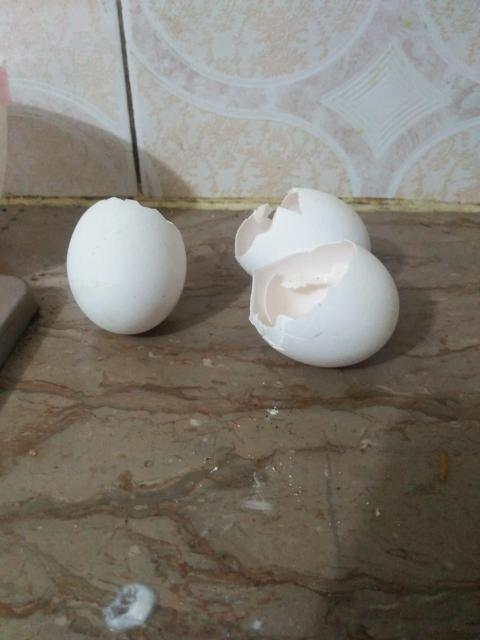Roto: (248, 240, 401, 368), (65, 196, 187, 336), (234, 185, 371, 276)
